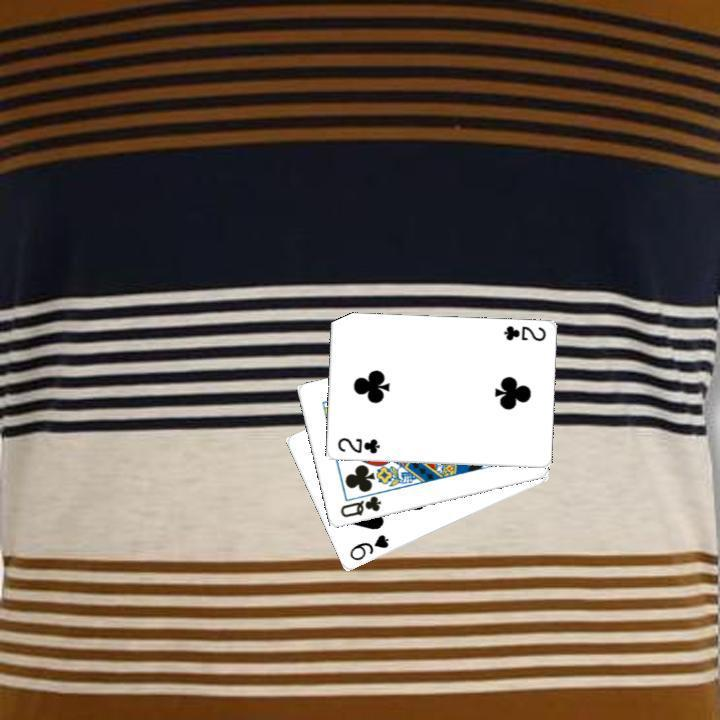2: (333, 434, 381, 456), (499, 322, 547, 343)
9: (345, 530, 391, 563)
Q: (336, 492, 383, 520)
